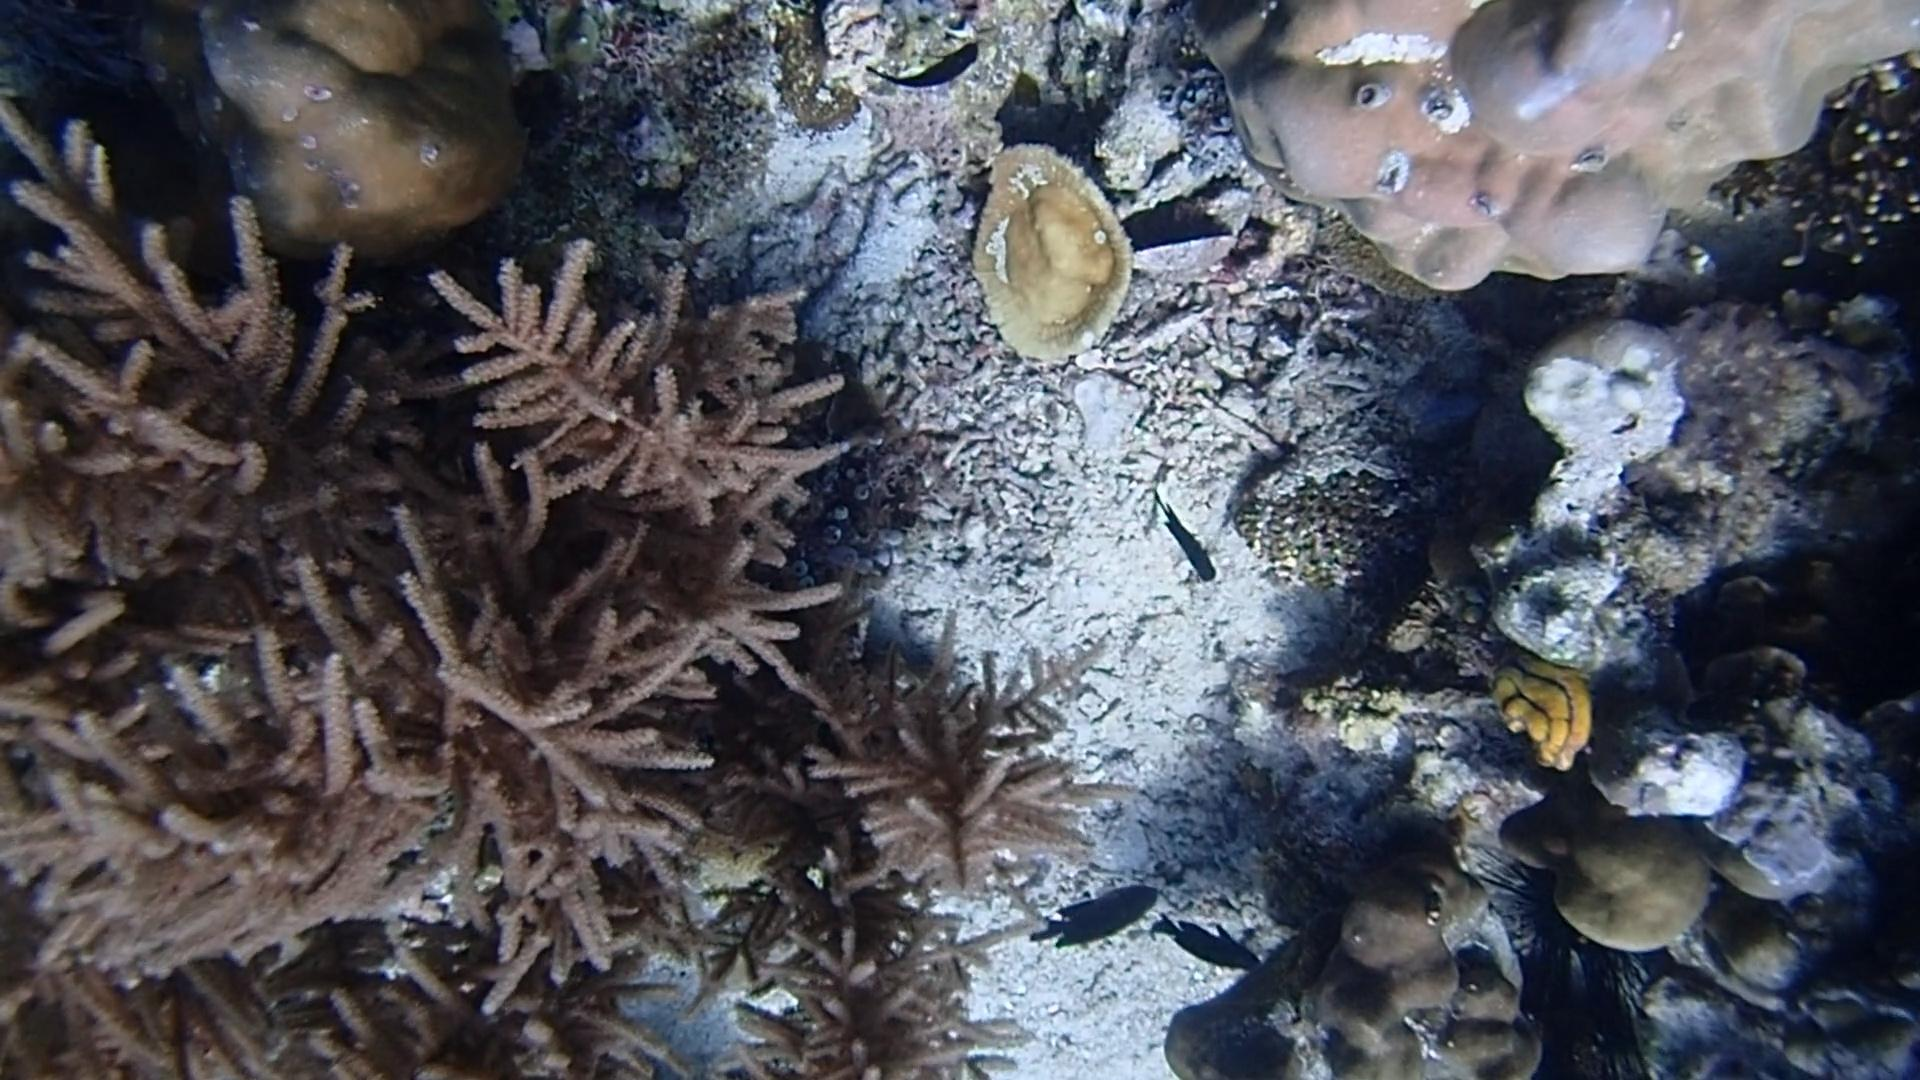Dark Fish: (1025, 873, 1168, 959), (1131, 496, 1241, 596), (852, 36, 990, 108), (1153, 909, 1270, 984)
